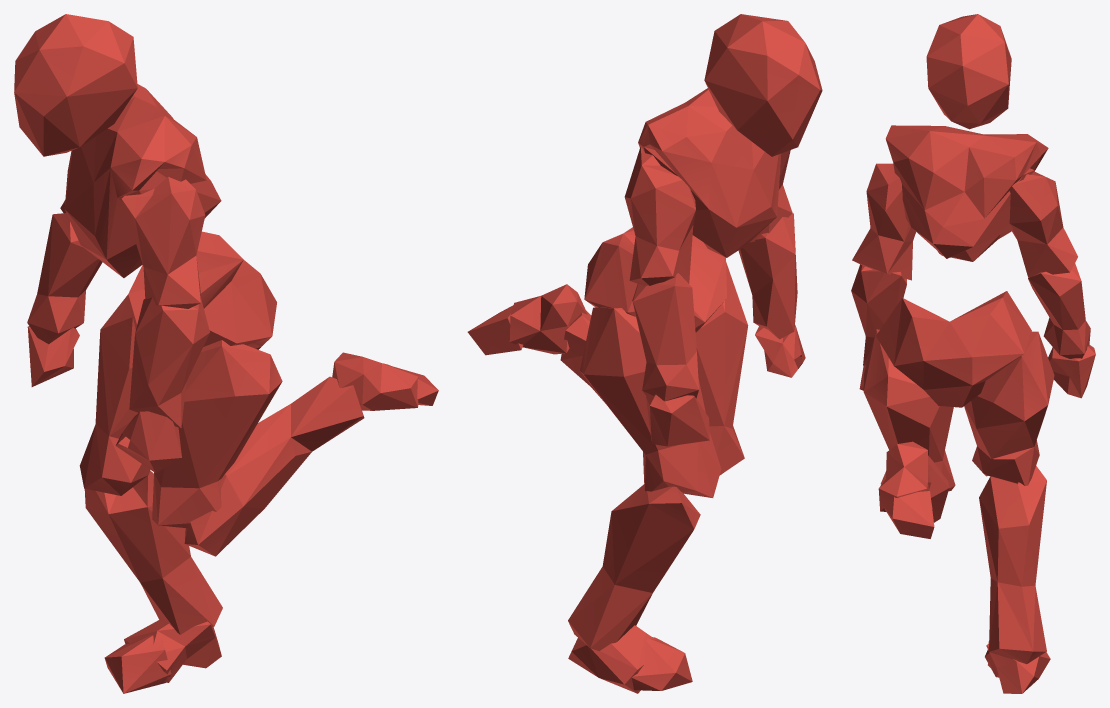
The model's file is 2dancer0198.obj.
The picture shows the model from 3 angles, left to right: view 1: azimuth 30°, elevation 25°; view 2: azimuth 150°, elevation 25°; view 3: azimuth 270°, elevation 25°; orthographic projection. The views are drawn at different scales.
Visible parts, largest first — view 1: Beta_Surface; view 2: Beta_Surface; view 3: Beta_Surface.
Part boxes in pixels (x1,y1,x2,y2): Beta_Surface: (14, 14, 438, 693); Beta_Surface: (467, 14, 822, 693); Beta_Surface: (851, 14, 1095, 693).
Size of the model in its own units: 0.9917 by 1.72 by 0.6176.
